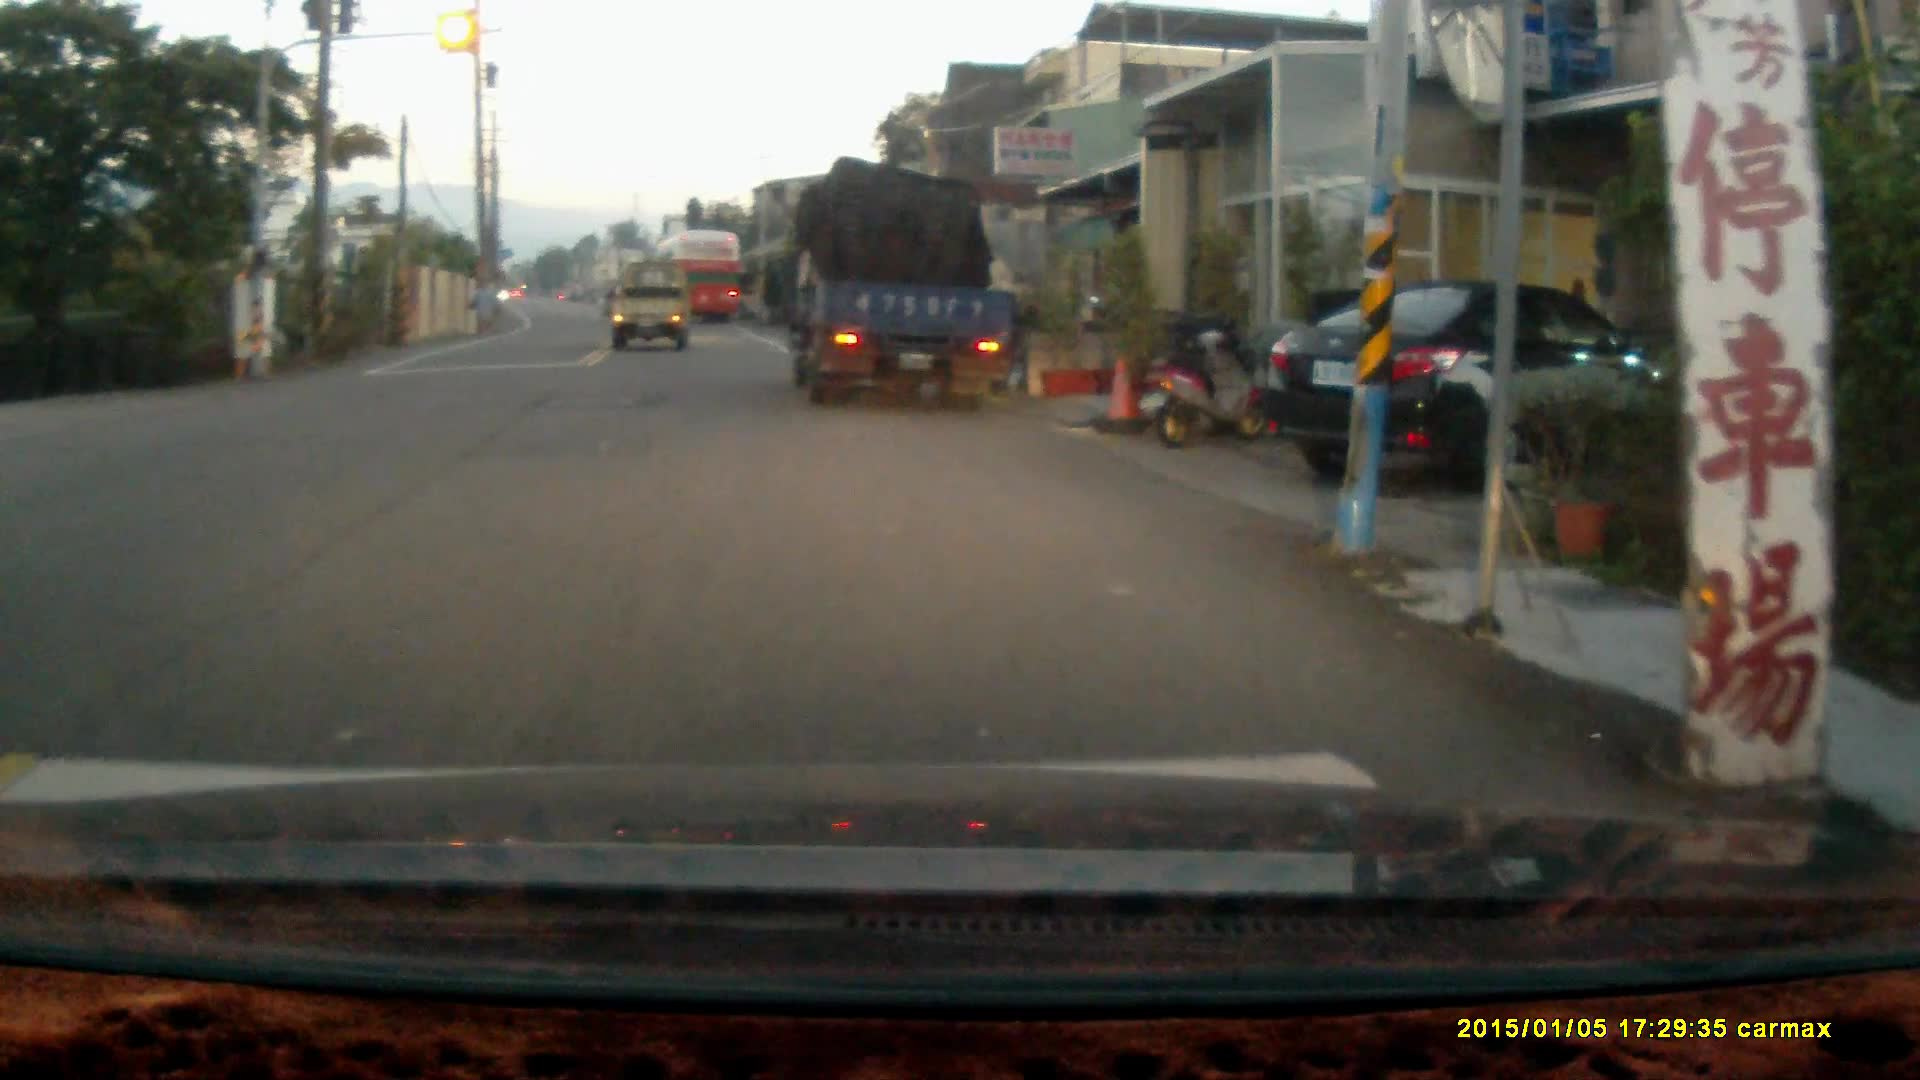vehicle: (1254, 281, 1687, 489), (775, 167, 1021, 406), (655, 235, 750, 335), (609, 268, 690, 352)
